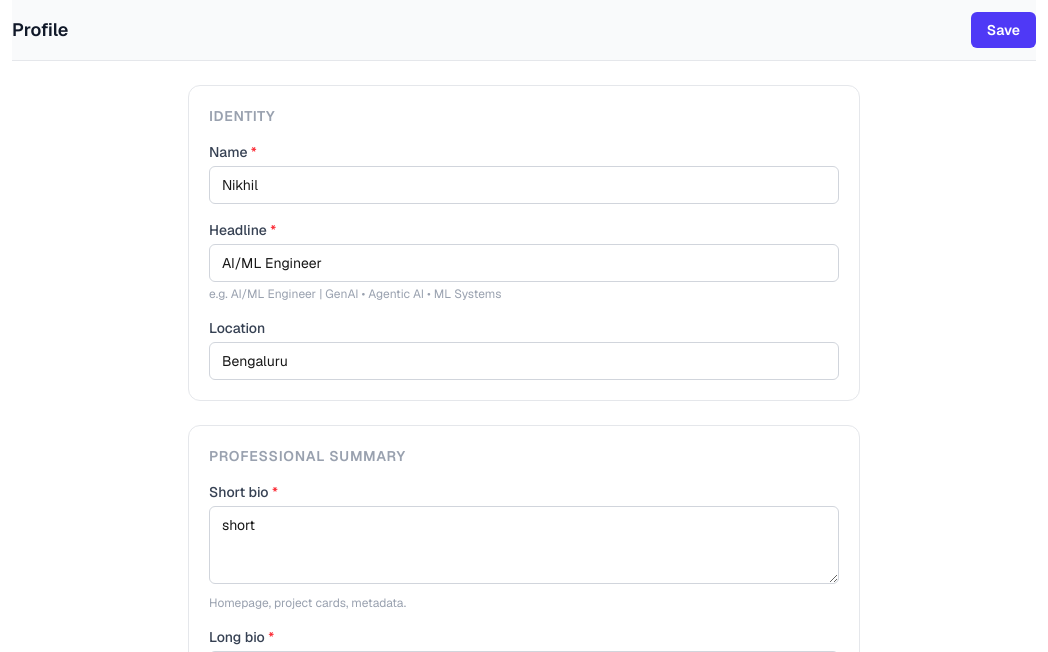
Test: ProfileEditor › prefills from an existing profile and marks dirty on edit
This screenshot has width=1048, height=652.
Expected: the field labelled "Name *" holds "Nikhil", [209,166,839,204]
Expected: the text "Unsaved" is not shown
Type "!" into the field labelled "Headline". click: {"x": 524, "y": 263}
box: [209,244,839,282]
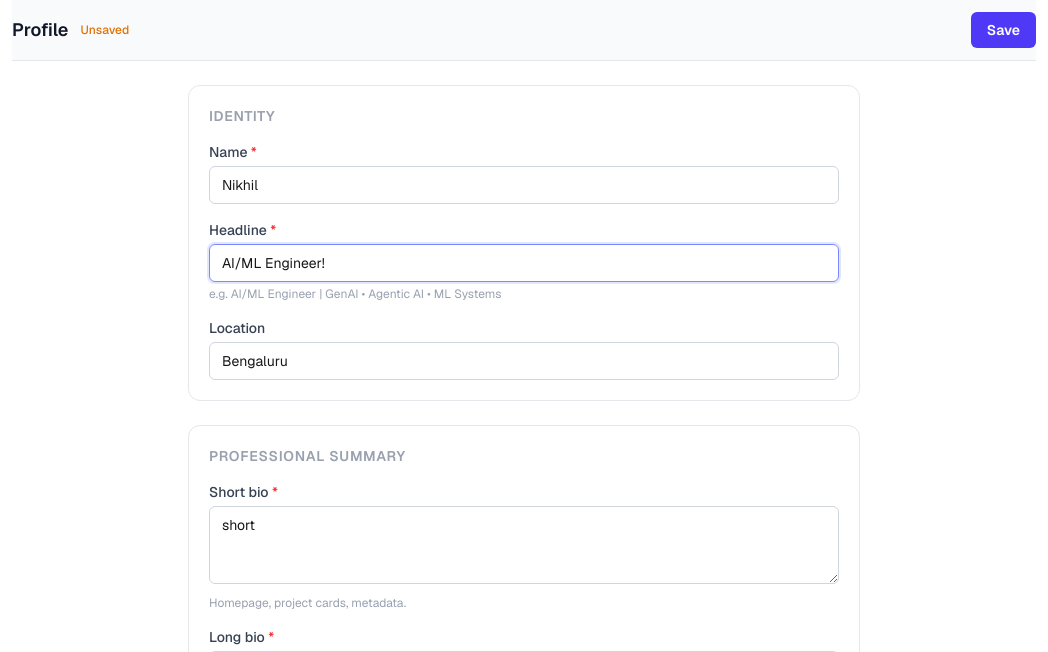
Result: the text "Unsaved" is shown at [80,22,129,38]
